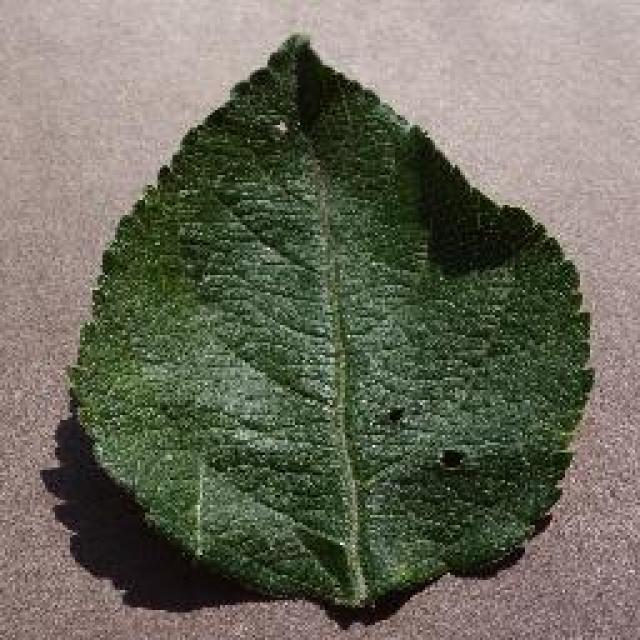apple healthy: (63, 30, 595, 610)
